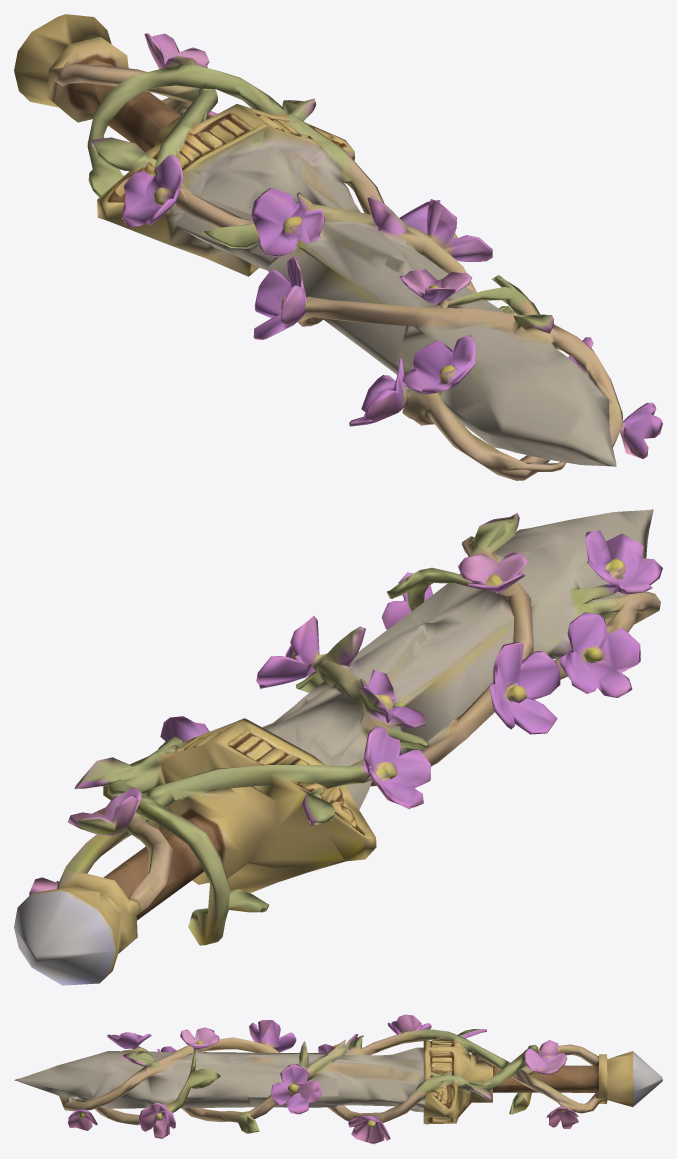
File: ganhe_yi_geng.glb
3 views of the same model, one above another, from view 1: azimuth 30°, elevation 25°; view 2: azimuth 150°, elevation 25°; view 3: azimuth 270°, elevation 25° (orthographic). The views are drawn at different scales.
Parts seen in each view (by area): view 1: tripo_node_bd46b020-9bec-4477-b769-c86dbac59bac; view 2: tripo_node_bd46b020-9bec-4477-b769-c86dbac59bac; view 3: tripo_node_bd46b020-9bec-4477-b769-c86dbac59bac.
Boxes of the visible parts, <box> form: tripo_node_bd46b020-9bec-4477-b769-c86dbac59bac: <box>14,14,662,480</box>; tripo_node_bd46b020-9bec-4477-b769-c86dbac59bac: <box>14,509,662,985</box>; tripo_node_bd46b020-9bec-4477-b769-c86dbac59bac: <box>14,1014,662,1144</box>.
Bounding box in the file's own units: 0.276 × 0.1491 × 0.9986.
Materials: 1 (1 with a texture image).
